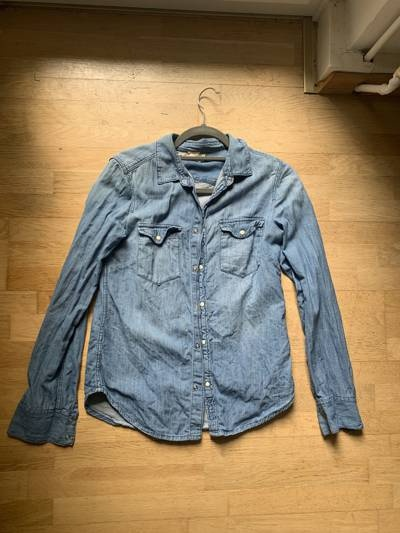Blazer: (8, 90, 384, 471)
